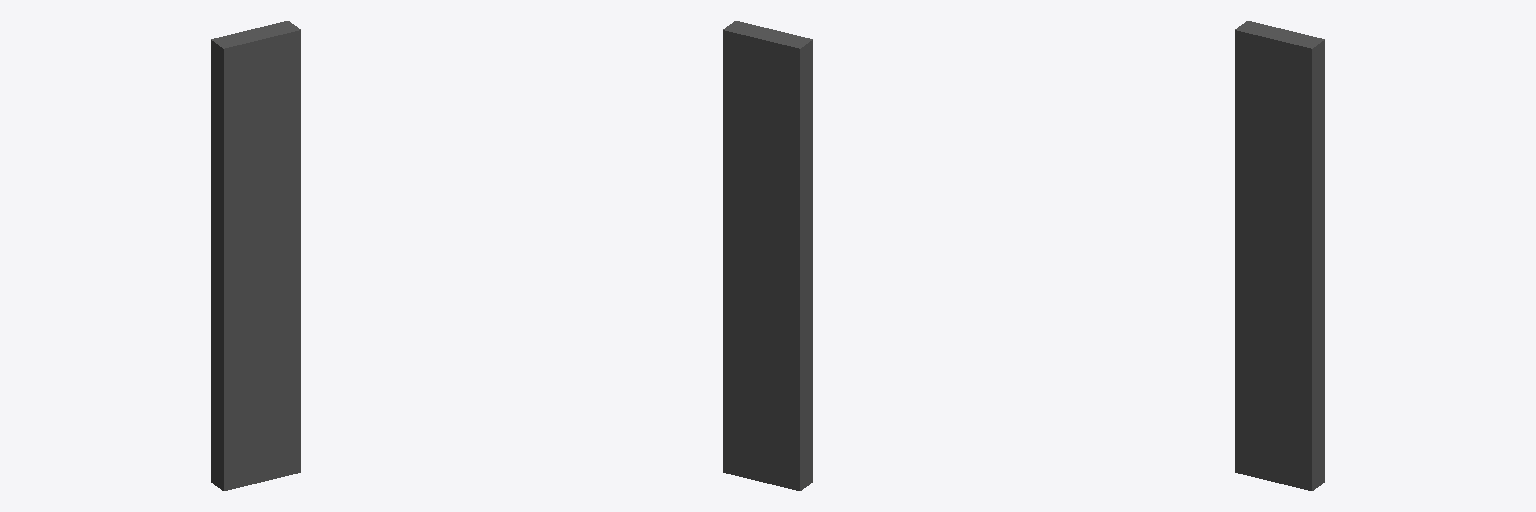
URDF robot description (robotiq_arg2f_85_model):
<?xml version="1.0" ?>
<!-- =================================================================================== -->
<!-- |    This document was autogenerated by xacro from robotiq_arg2f_85_model.xacro   | -->
<!-- |    EDITING THIS FILE BY HAND IS NOT RECOMMENDED                                 | -->
<!-- =================================================================================== -->
<robot name="robotiq_arg2f_85_model">
  <link name="robotiq_arg2f_base_link">
    <inertial>
      <origin rpy="0 0 0" xyz="8.625E-08 -4.6583E-06 0.03145"/>
      <mass value="0.22652"/>
      <inertia ixx="0.00020005" ixy="-4.2442E-10" ixz="-2.9069E-10" iyy="0.00017832" iyz="-3.4402E-08" izz="0.00013478"/>
    </inertial>
    <!-- <visual>
      <origin rpy="0 0 0" xyz="0 0 0"/>
      <geometry>
        <mesh filename="visual/robotiq_arg2f_85_base_link.dae" scale="0.001 0.001 0.001"/>
      </geometry>
      <material name="Dark">
        <color rgba="0.1 0.1 0.1 1"/>
      </material>
    </visual> -->
    <!-- <collision>
      <origin rpy="0 0 0" xyz="0 0 0"/>
      <geometry>
        <mesh filename="collision/robotiq_arg2f_base_link.stl"/>
      </geometry>
    </collision> -->
  </link>


  <link name="dummy_center_indicator_link">
    <visual>
      <!-- <geometry>
        <box size="0.025 0.08 0.002"/>
      </geometry>
      <geometry>
        <box size="0.025 0.125 0.002"/>
      </geometry> -->
      <origin rpy="0 0 0" xyz="0 0 -0.06"/>
      <geometry>
        <box size="0.022 0.00635 0.12"/>
      </geometry>
      <material name="Dark4">
        <color rgba="0.4 0.4 0.4 1"/>
      </material>
    </visual>
    <collision>
      <origin rpy="0 0 0" xyz="0 0 -0.06"/>
      <geometry>
        <box size="0.022 0.00635 0.12"/>
      </geometry>
    </collision>    
    <inertial>
      <mass value="0.1" />
      <inertia ixx = "0" ixy = "0" ixz = "0"
               iyx = "0" iyy = "0" iyz = "0"
               izx = "0" izy = "0" izz = "0" />
    </inertial>
  </link>
  <joint name="dummy_center_fixed_joint" type="fixed">
    <parent link="robotiq_arg2f_base_link"/>
    <child link="dummy_center_indicator_link"/>
    <origin xyz="0 0 0.15"/>
  </joint>

</robot>

--- Facts derived from the render (not from the file) ---
The picture shows the robot from 3 angles, left to right: view 1: azimuth 30°, elevation 25°; view 2: azimuth 150°, elevation 25°; view 3: azimuth 330°, elevation 25°; orthographic projection.
Robot: robotiq_arg2f_85_model — 2 links, 1 joints (1 fixed); root link robotiq_arg2f_base_link; default pose: every joint at zero.
Links seen in each view (by area): view 1: dummy_center_indicator_link; view 2: dummy_center_indicator_link; view 3: dummy_center_indicator_link.
Link boxes in pixels (x1,y1,x2,y2): dummy_center_indicator_link: (211, 21, 300, 490); dummy_center_indicator_link: (723, 21, 812, 490); dummy_center_indicator_link: (1235, 21, 1324, 490).
Bounding box of the posed robot: 0.022 × 0.0063 × 0.12 m (x, y, z).
Geometry: primitives only (box / cylinder / sphere), no mesh files.